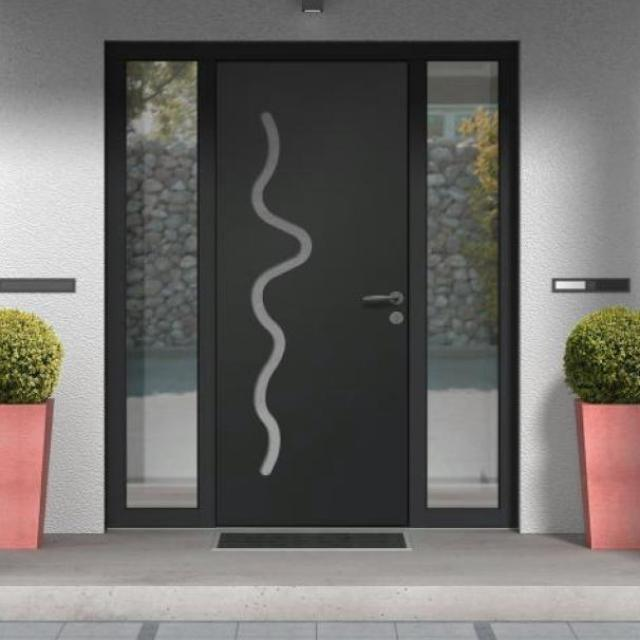door: (212, 57, 411, 527)
